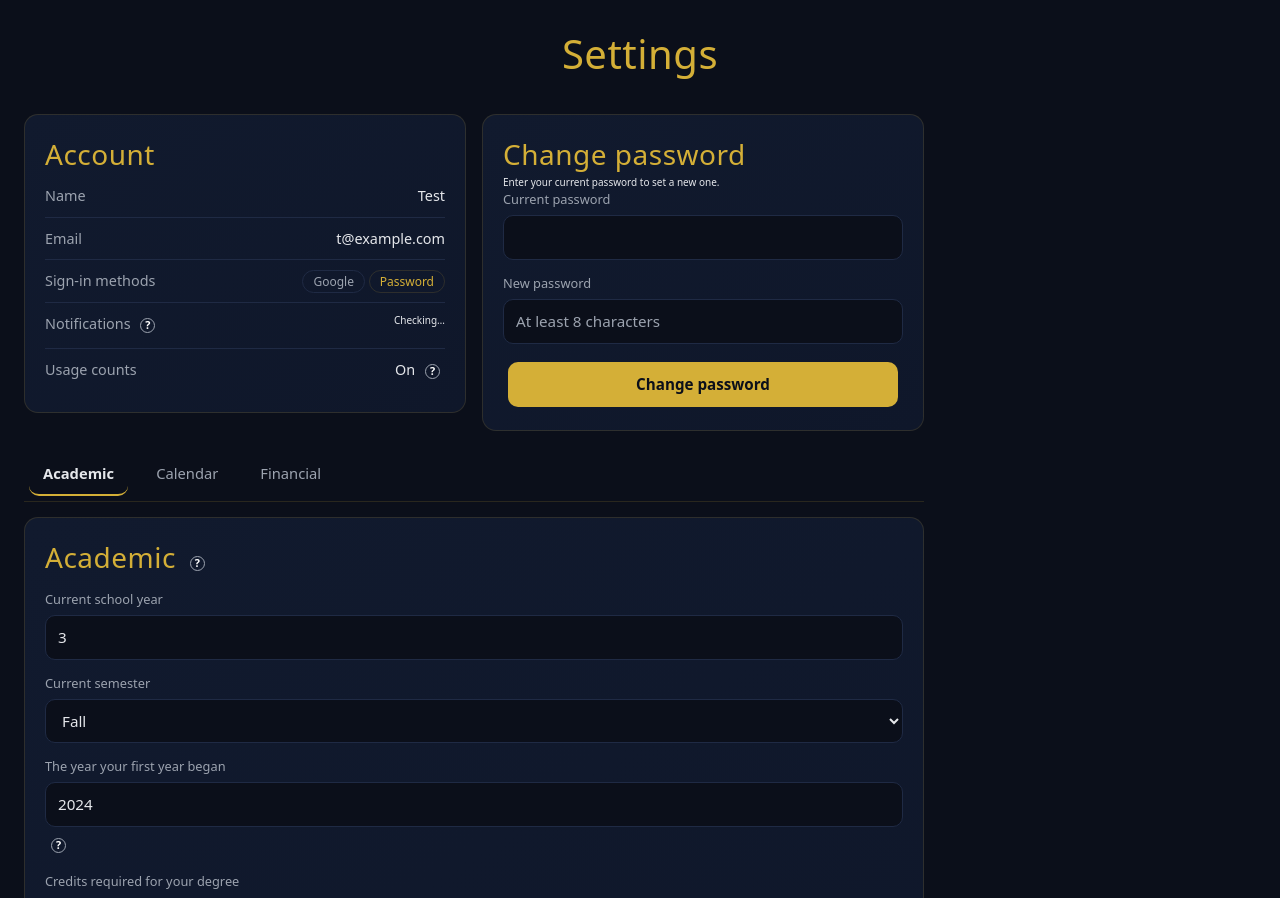
Test case: where cash tips go › puts the choice back and says so when saving fails
Click the tab "Financial". click: [291, 474]
box: [246,452,335,496]
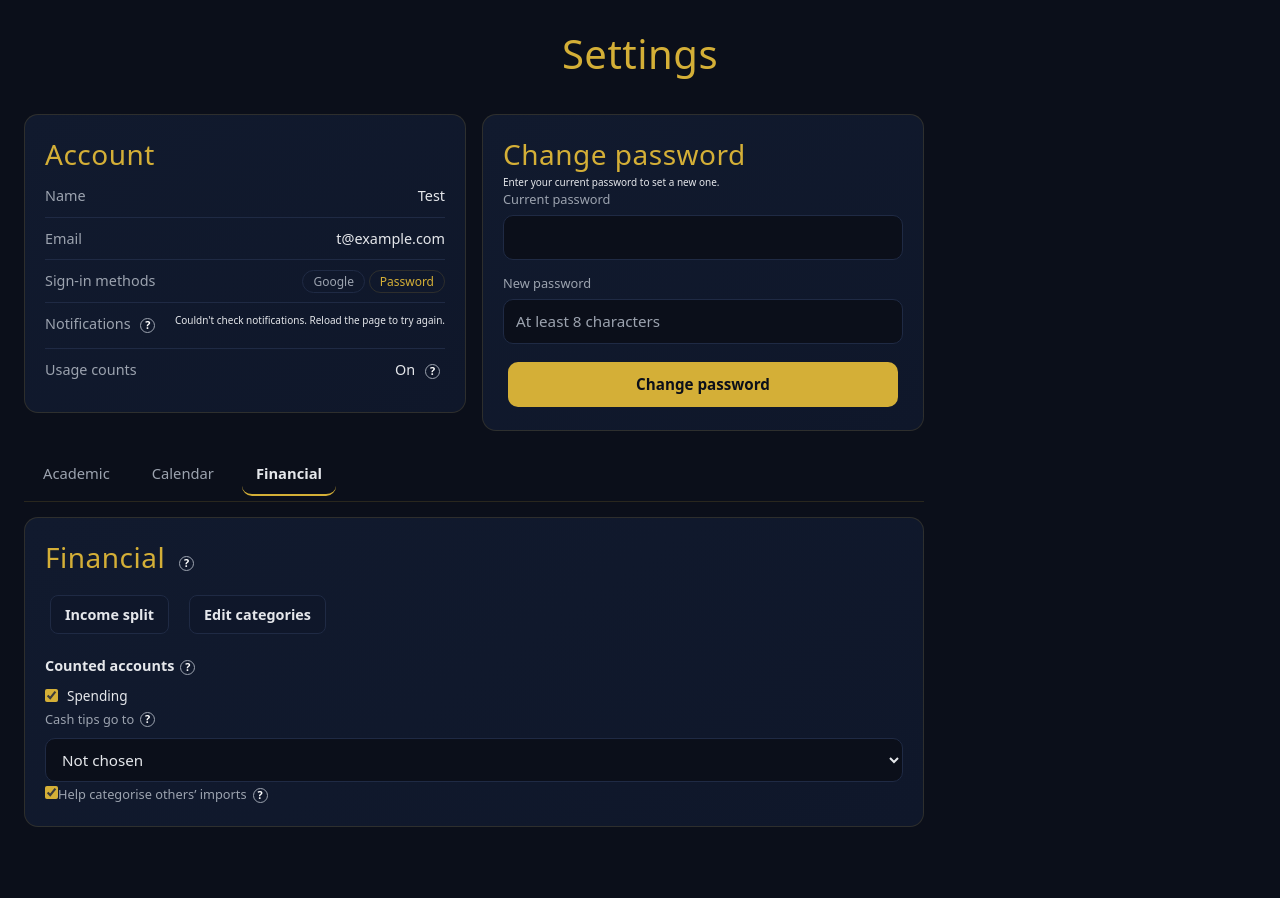
Select "Spending" in the dropdown labelled "Cash tips go to". click: [474, 760]
box: [45,738,903,782]
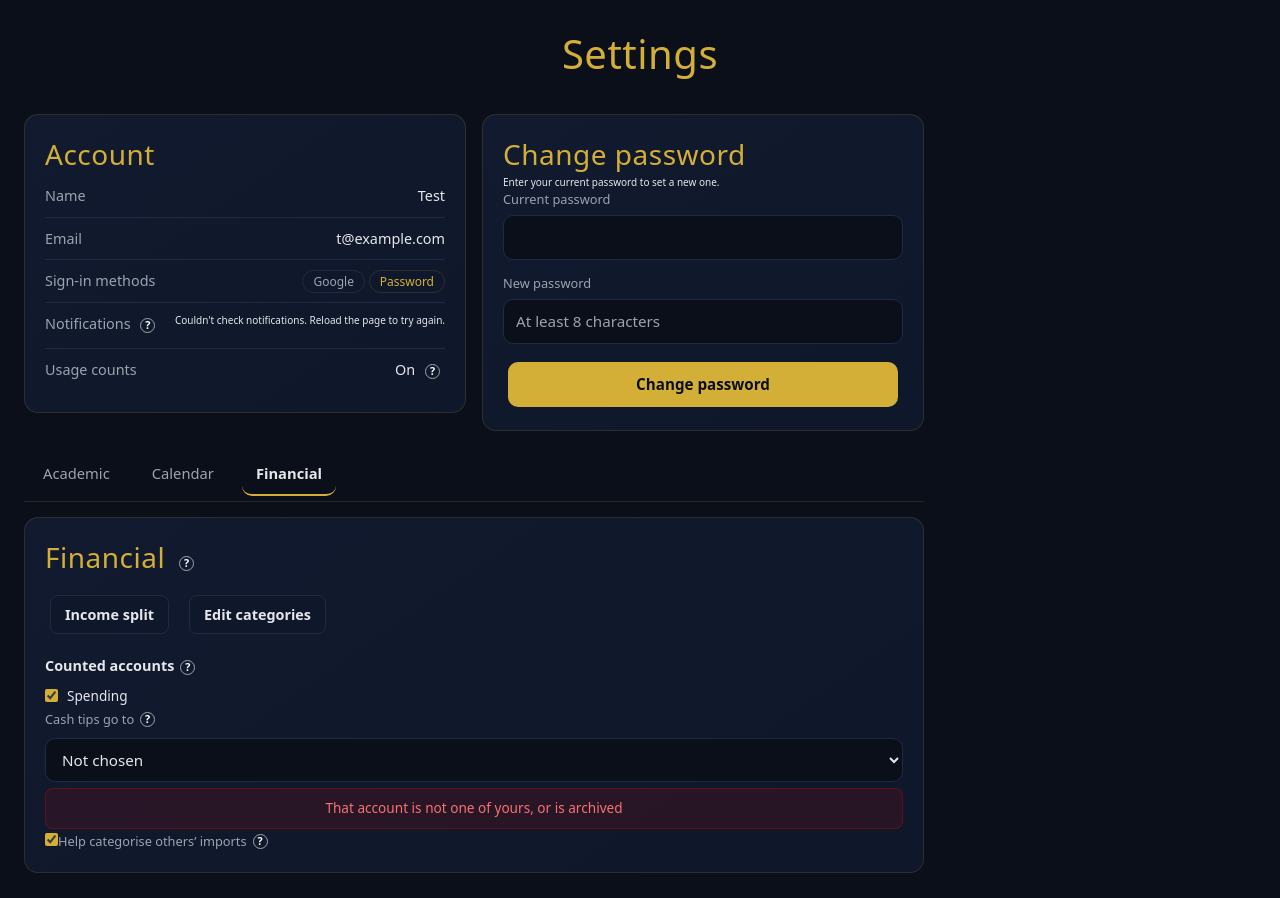
Now the text "That account is not one of yours, or is archived" is shown, box [45,788,903,829]
